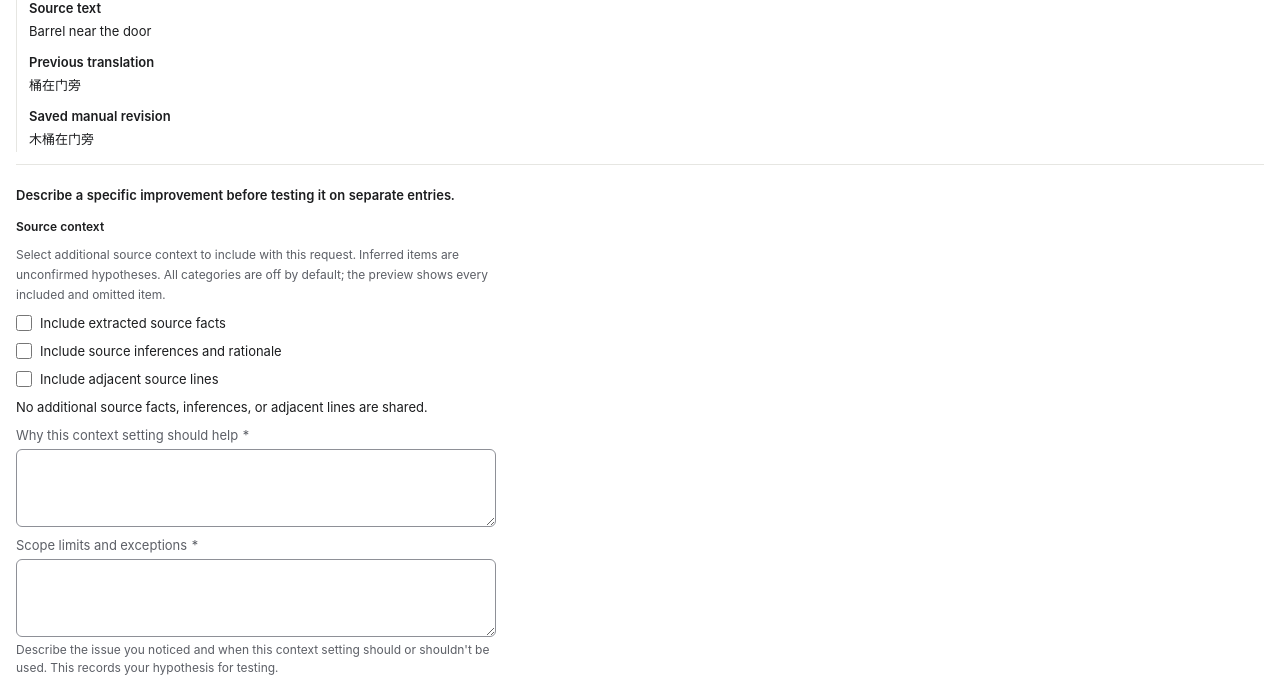
it: loads a saved correction and captures the candidate through the original owner in en-US
The image size is (1280, 683).
(page scrolled)
Expected: the heading "Saved manual revision" is shown, [29,108,171,124]
Click the checkbox labelled "Include extracted source facts". click: coordinates (24, 323)
box: [16,315,32,331]
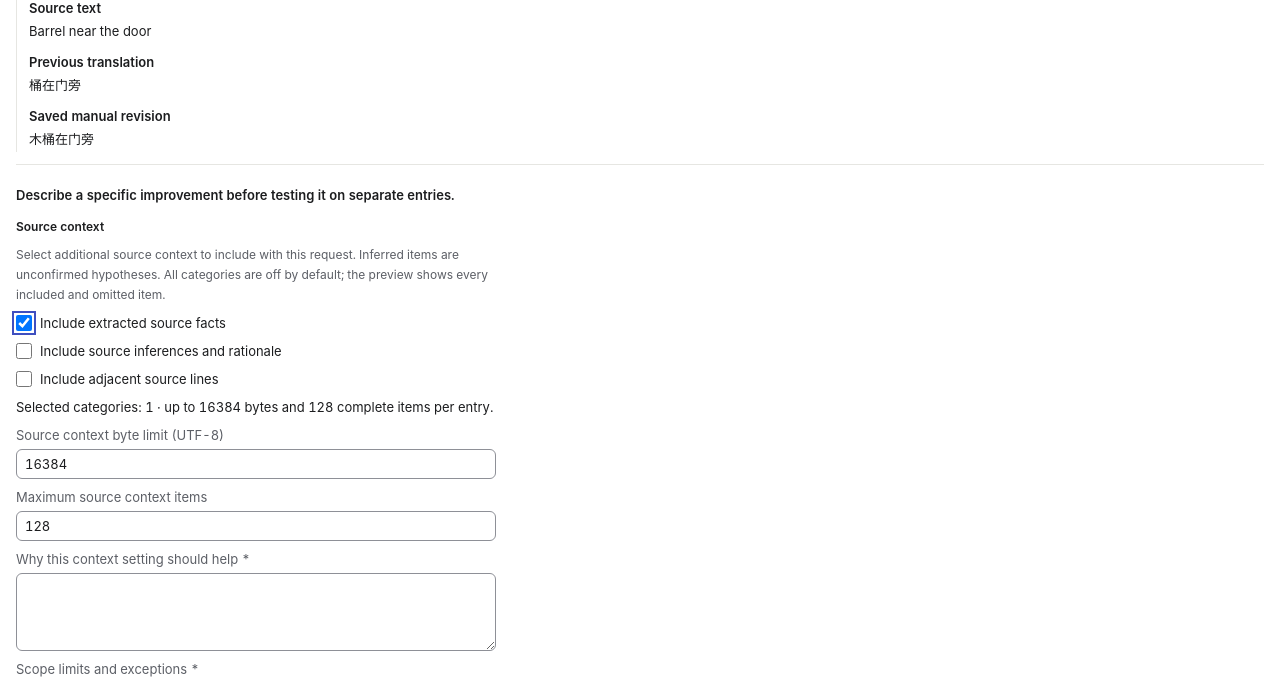
Type "Keep the extracted scene" into the text box labelled "Why this context setting should help". click: coordinates (256, 612)
box: [16,573,496,651]
(page scrolled)
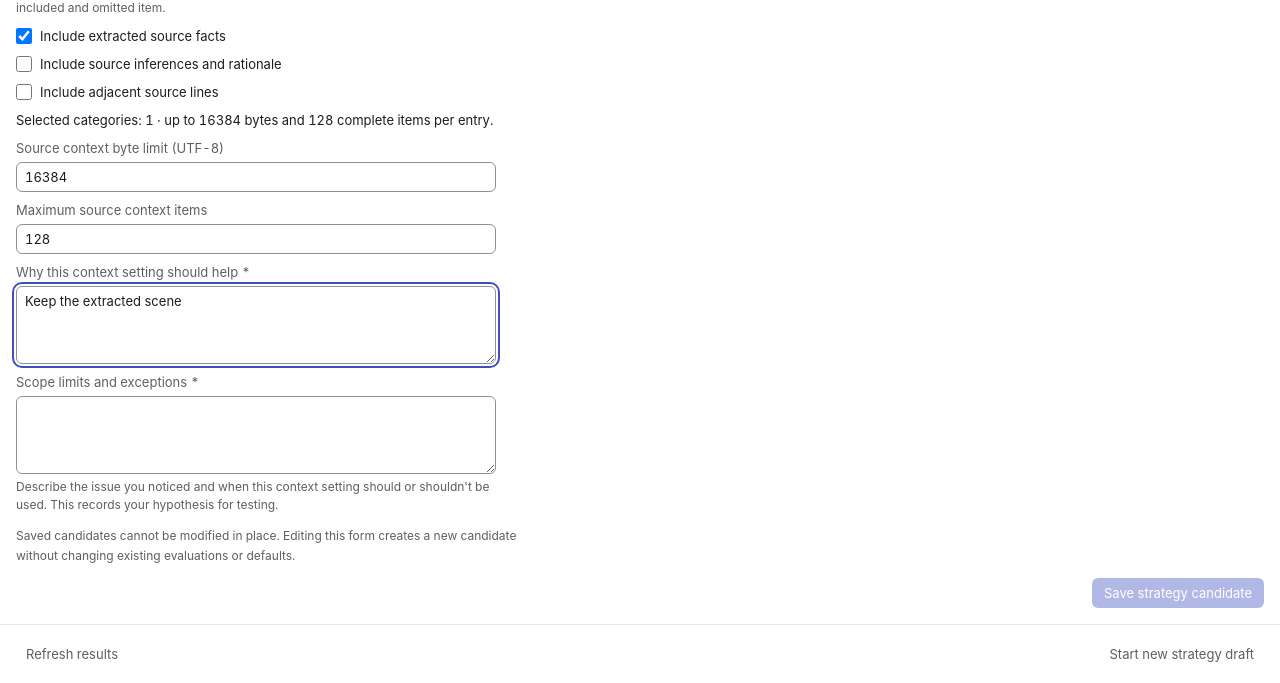
Type "Only this project and language" into the text box labelled "Scope limits and exceptions". click: coordinates (256, 435)
box: [16,396,496,474]
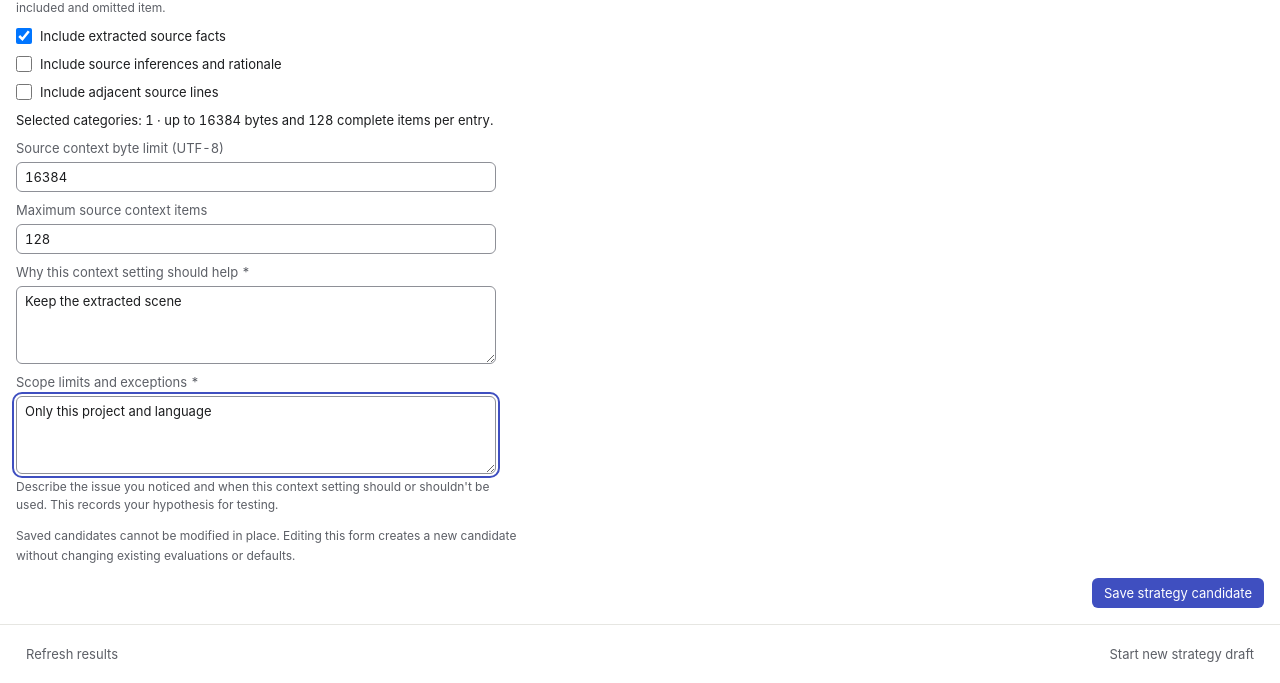
Click the button "Save strategy candidate". click: coordinates (1178, 593)
box: [1092,578,1264,608]
(page scrolled)
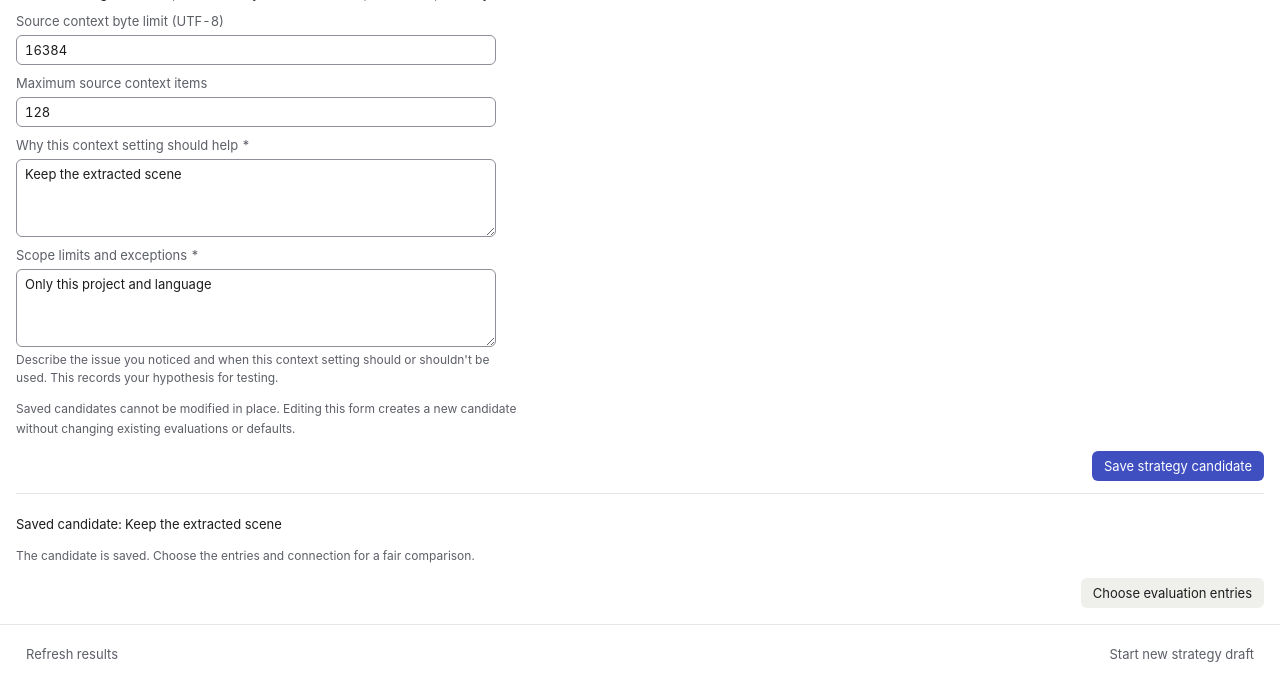
Now the text "The candidate is saved. Choose the entries and connection for a fair comparison." is shown, box [16,546,531,566]
